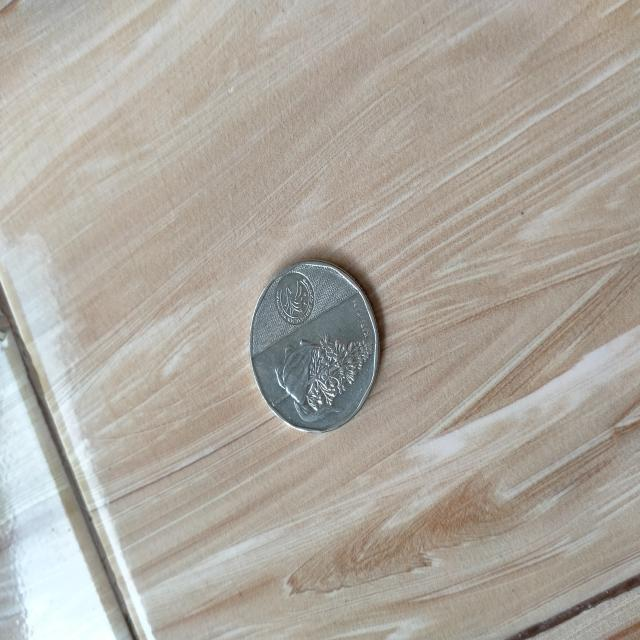10_New_Back: (269, 324, 383, 426)
